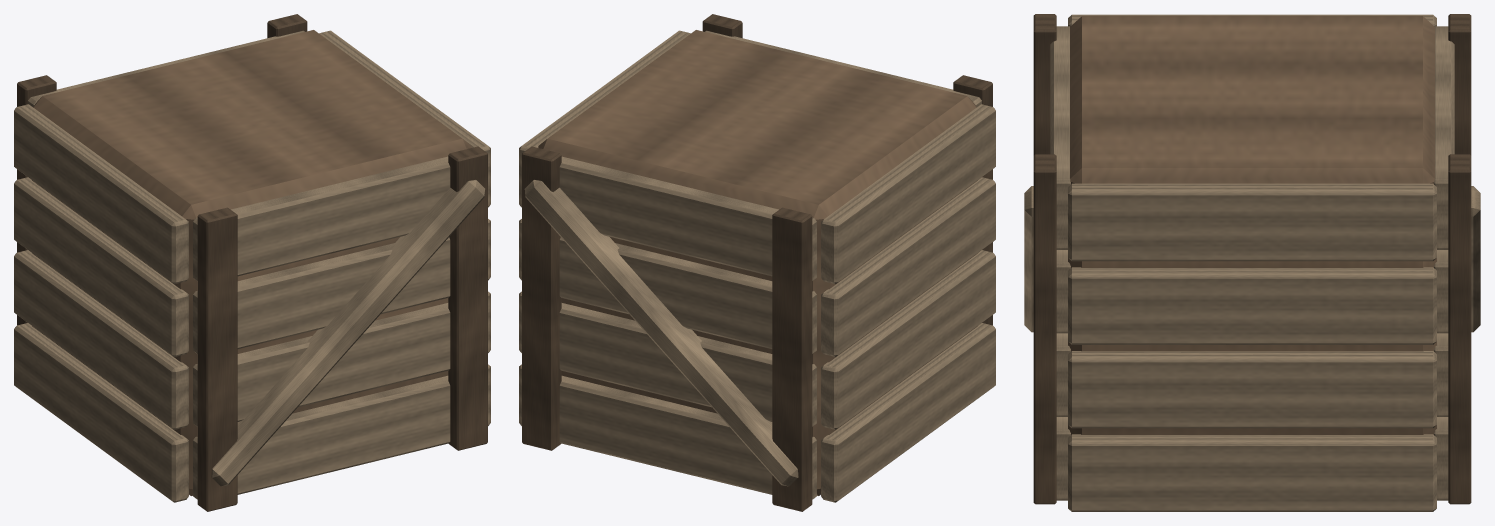
Rendered from crate.glb.
3 renders of one model, left to right at view 1: azimuth 30°, elevation 25°; view 2: azimuth 150°, elevation 25°; view 3: azimuth 270°, elevation 25°, orthographic. The views are drawn at different scales.
Parts seen in each view (by area): view 1: crate__Timber_worn_edges, crate__Weathered_timber, crate__Dark_endgrain; view 2: crate__Timber_worn_edges, crate__Weathered_timber, crate__Dark_endgrain; view 3: crate__Timber_worn_edges, crate__Weathered_timber, crate__Dark_endgrain.
Part boxes in pixels (x1,y1,x2,y2): crate__Timber_worn_edges: [14, 30, 490, 502]; crate__Weathered_timber: [32, 30, 471, 495]; crate__Dark_endgrain: [17, 14, 487, 511]; crate__Timber_worn_edges: [519, 30, 995, 502]; crate__Weathered_timber: [538, 30, 977, 495]; crate__Dark_endgrain: [522, 14, 992, 511]; crate__Timber_worn_edges: [1024, 14, 1480, 511]; crate__Weathered_timber: [1068, 16, 1436, 434]; crate__Dark_endgrain: [1033, 14, 1471, 504].
Bounding box in the file's own units: 0.459 × 0.4 × 0.495.
3 materials, 3 textured.
